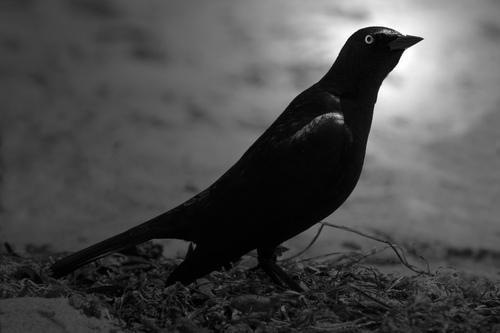009.Brewer_Blackbird: (50, 26, 425, 295)
